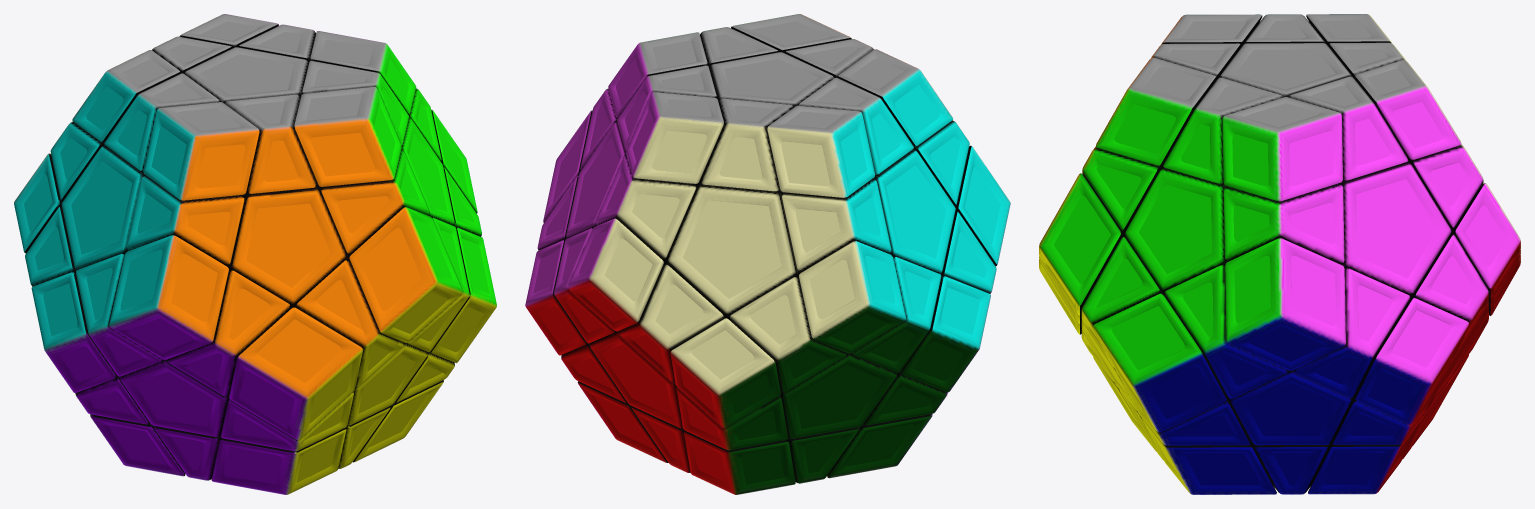
Rendered from megaminkss.glb.
3 renders of one model, left to right at view 1: azimuth 30°, elevation 25°; view 2: azimuth 150°, elevation 25°; view 3: azimuth 270°, elevation 25°, orthographic. The views are drawn at different scales.
Visible parts, largest first — view 1: model_0; view 2: model_0; view 3: model_0.
Boxes of the visible parts, x1,y1,x2,y2 form: model_0: (14, 14, 496, 494); model_0: (525, 14, 1010, 494); model_0: (1039, 14, 1520, 494).
Size of the model in its own units: 3.23 by 2.64 by 3.06.
Materials: 1 (1 with a texture image).
